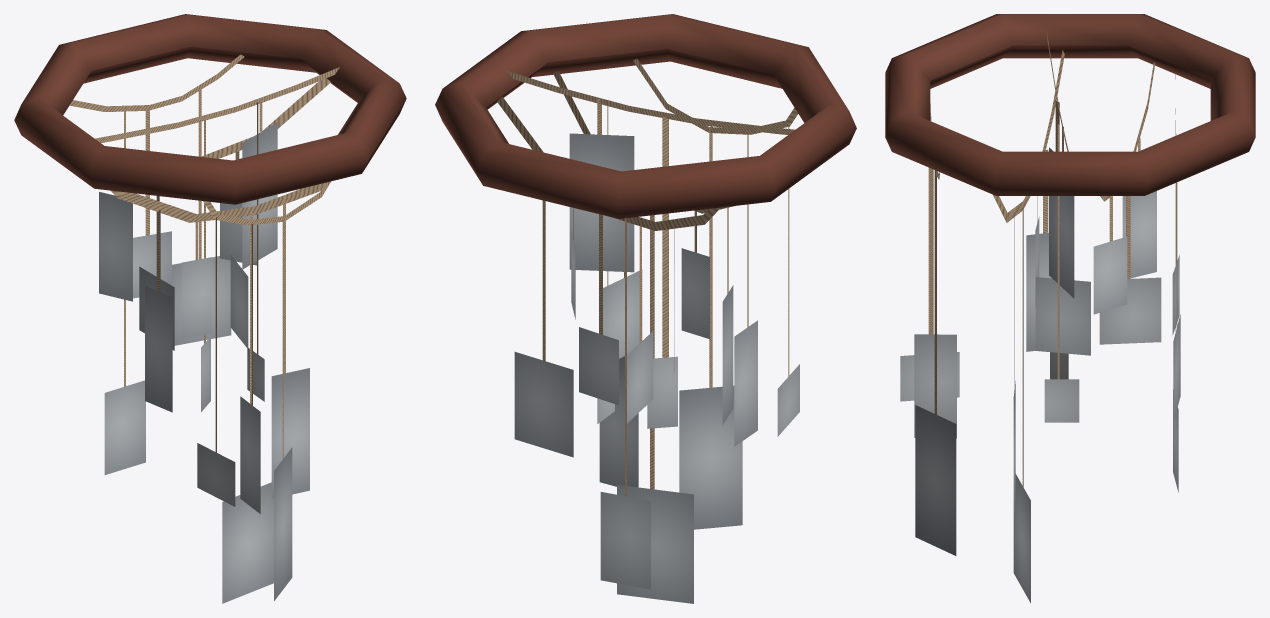
File: SM_WindChime.fbx
3 renders of one model, left to right at view 1: azimuth 30°, elevation 25°; view 2: azimuth 150°, elevation 25°; view 3: azimuth 270°, elevation 25°, orthographic. The views are drawn at different scales.
Parts seen in each view (by area): view 1: Plane.072, Torus; view 2: Plane.072, Torus; view 3: Plane.072, Torus.
Part boxes in pixels (<box>): Plane.072: <box>69,54,339,603</box>; Torus: <box>14,14,406,204</box>; Plane.072: <box>497,58,799,603</box>; Torus: <box>435,14,856,218</box>; Plane.072: <box>900,32,1180,603</box>; Torus: <box>885,14,1255,195</box>.
Bounding box in the file's own units: 60.98 × 90.46 × 60.98.
